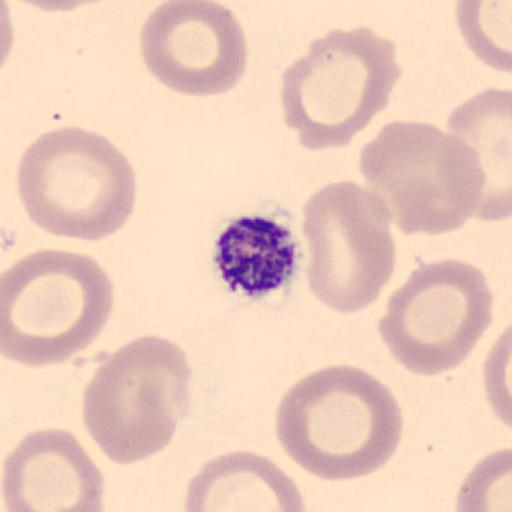Platelet: (210, 210, 306, 302)
RBC: (274, 362, 404, 483), (358, 117, 487, 238), (280, 26, 401, 152), (80, 334, 194, 466), (14, 124, 138, 243), (0, 247, 115, 369), (379, 256, 494, 377), (300, 178, 397, 316), (138, 0, 249, 99), (445, 84, 512, 222), (2, 426, 106, 512), (181, 448, 309, 512), (453, 0, 512, 74), (453, 445, 512, 512), (482, 324, 512, 433), (6, 0, 108, 14), (0, 0, 15, 73)
